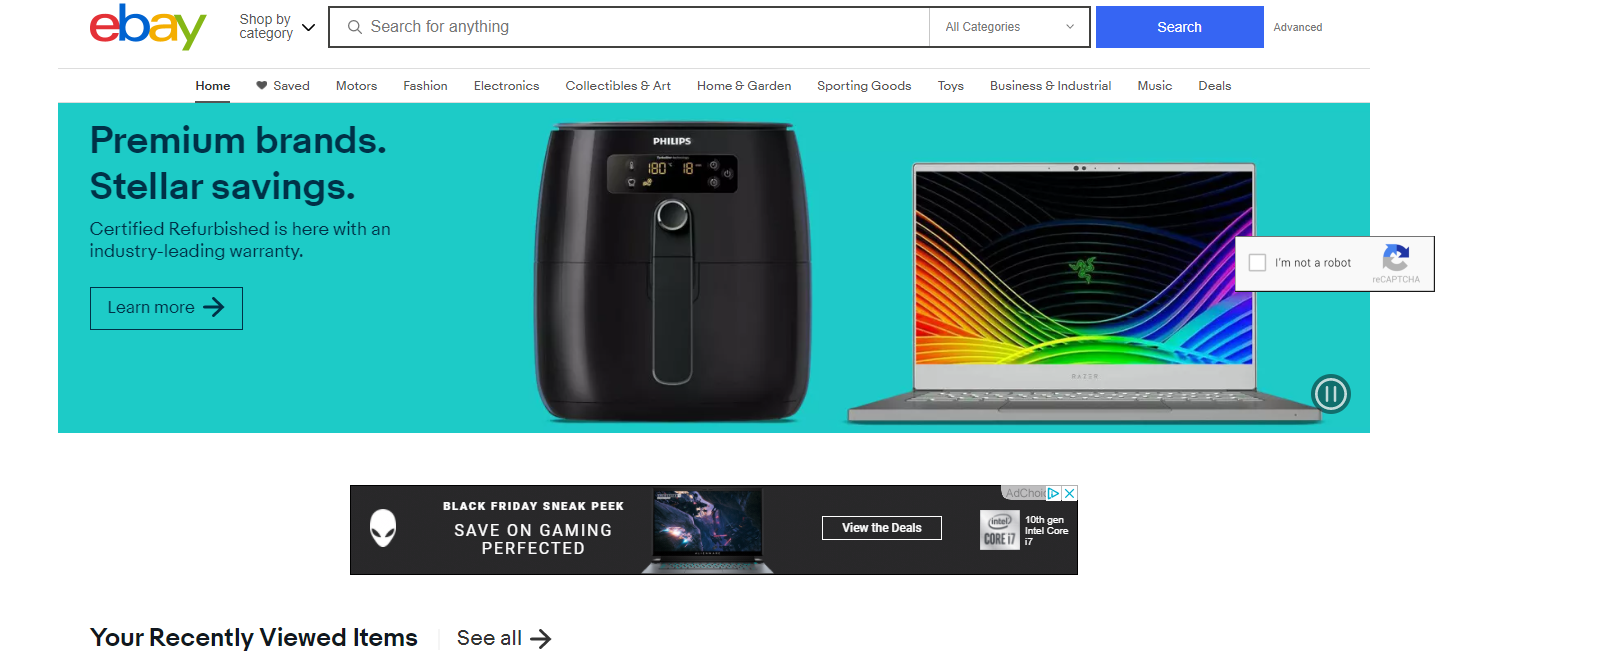captcha: (1237, 238, 1433, 290)
